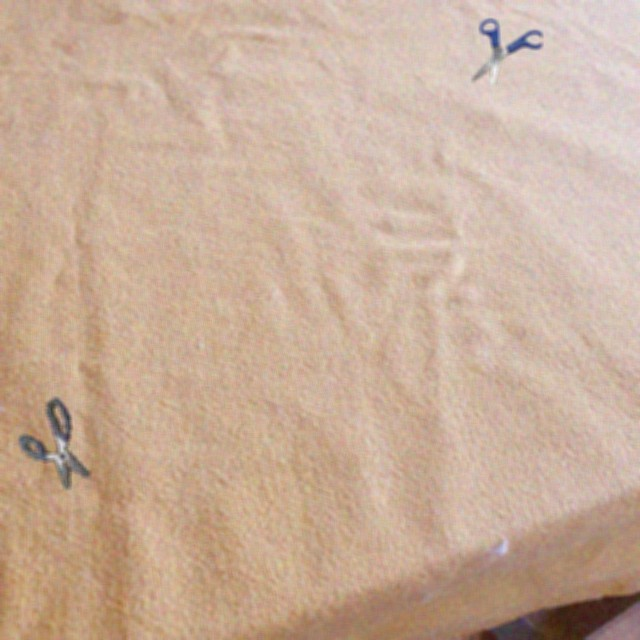scissors: (19, 398, 90, 489), (472, 19, 542, 86)
